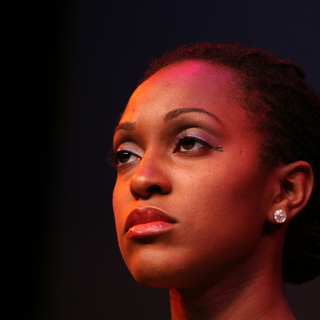eye: (166, 134, 219, 157), (107, 145, 143, 169)
